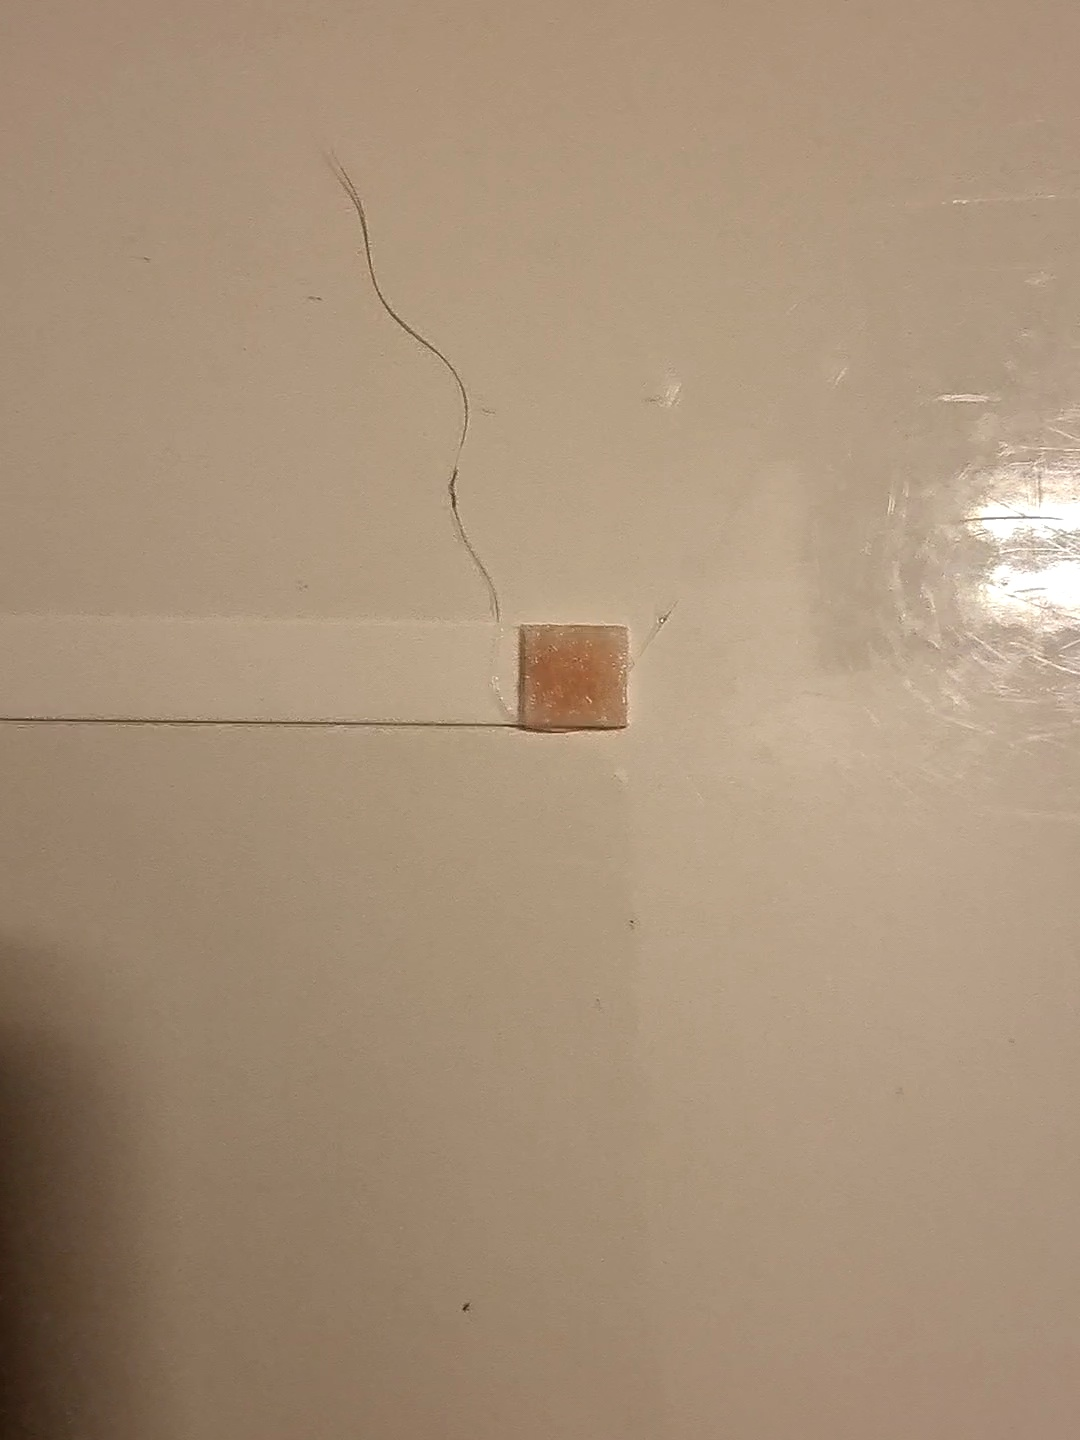keto-tip: (511, 617, 636, 740)
